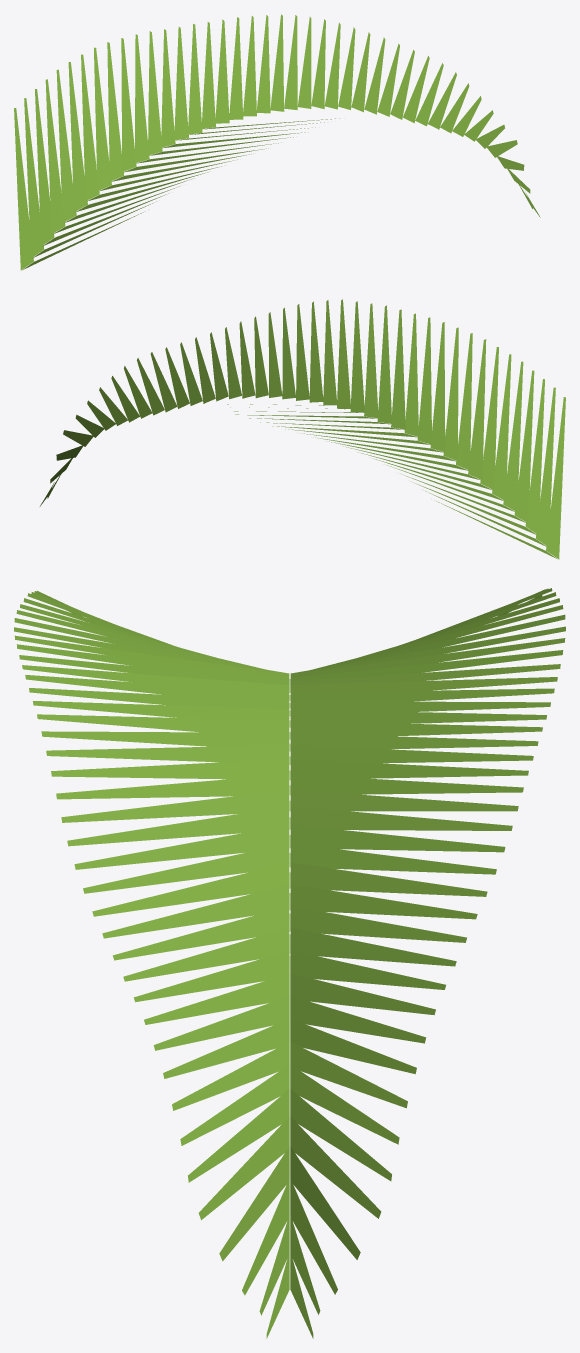
The model's file is leaves5.gltf.
3 renders of one model, top to bottom at view 1: azimuth 30°, elevation 25°; view 2: azimuth 150°, elevation 25°; view 3: azimuth 270°, elevation 25°, orthographic. The views are drawn at different scales.
Size of the model in its own units: 2.16 by 0.8757 by 1.07.
